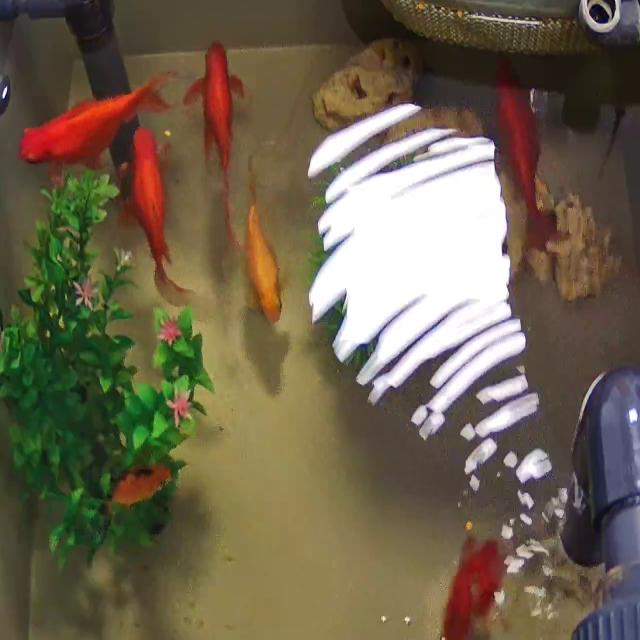fish: (18, 74, 181, 175), (495, 52, 565, 264), (118, 127, 190, 300), (416, 534, 511, 640), (187, 40, 248, 204), (243, 161, 285, 325), (106, 465, 172, 508)
